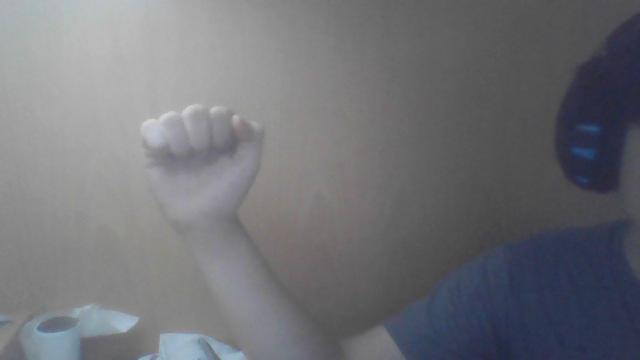forward: (140, 103, 344, 359), (139, 103, 265, 229)
